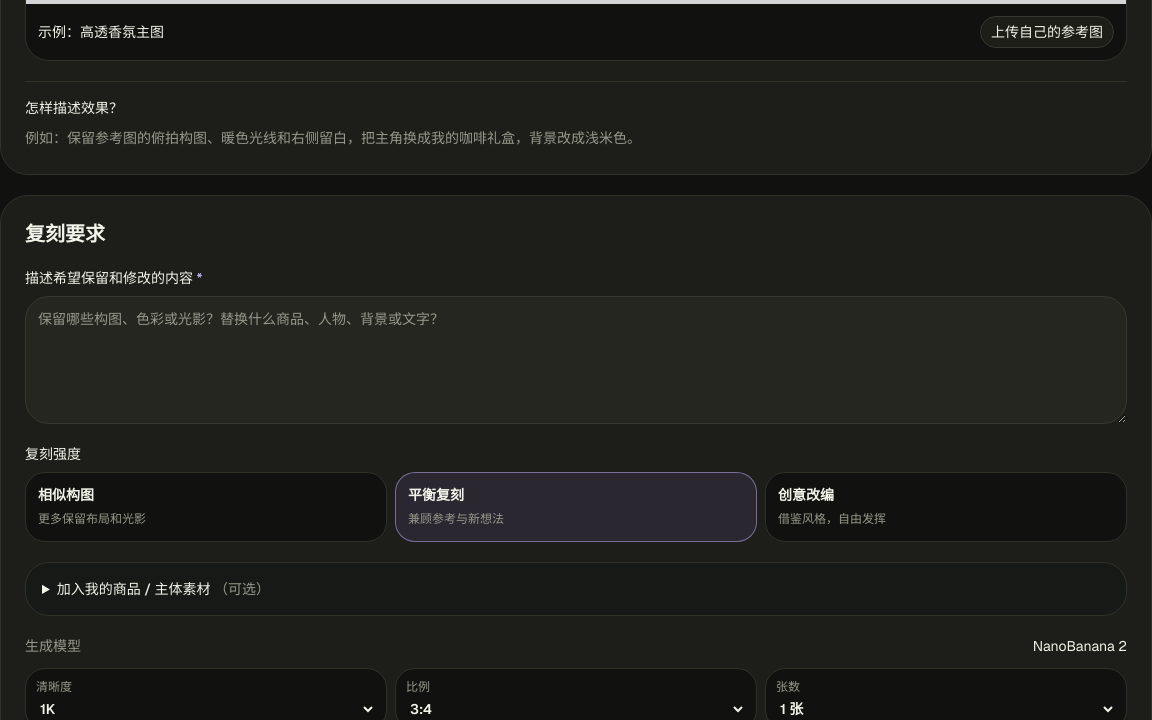
viral remix workbench › still allows a legacy example reference with an adaptation
(page scrolled)
Expected: the radio button labelled "平衡复刻" is checked, [395, 472, 757, 542]
Type "替换为新款咖啡礼盒" into the text box labelled "描述希望保留和修改的内容 *". click: [576, 360]
box: [25, 296, 1127, 424]
(page scrolled)
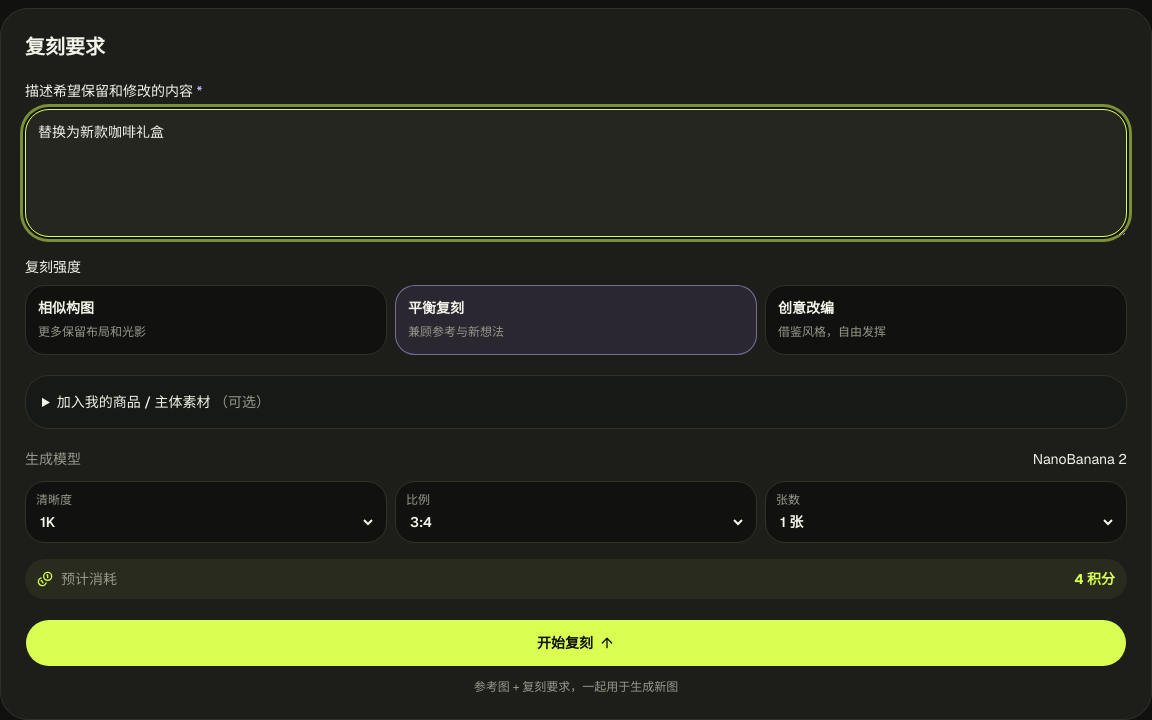
Expected: the button "开始复刻" is enabled, [25, 619, 1127, 667]
